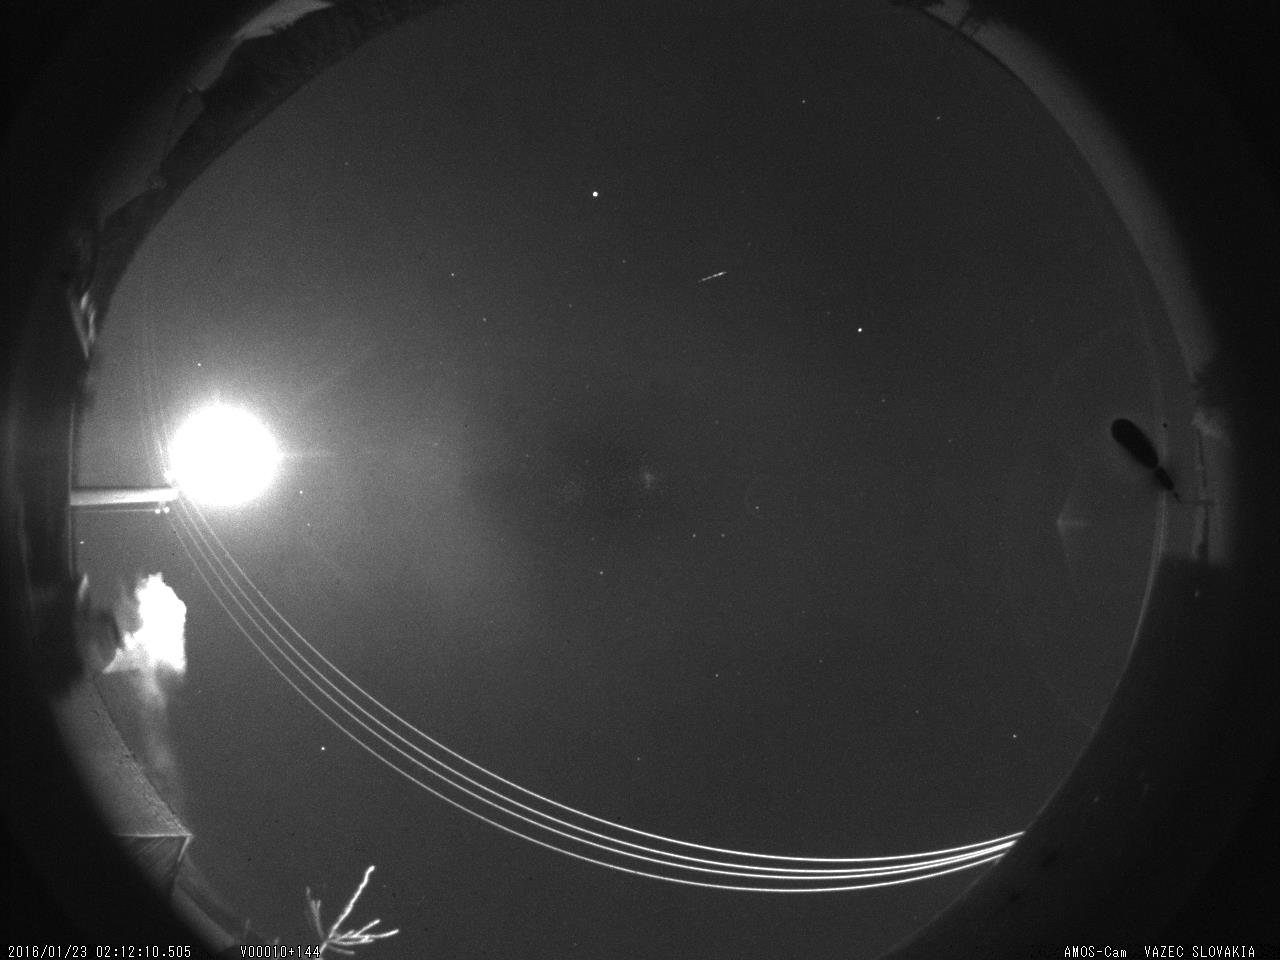meteor: (693, 270, 736, 287)
